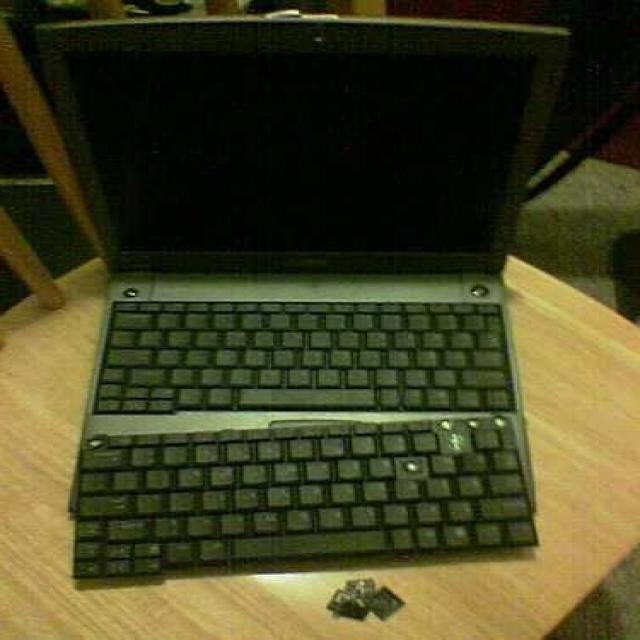laptop: (32, 32, 560, 464)
